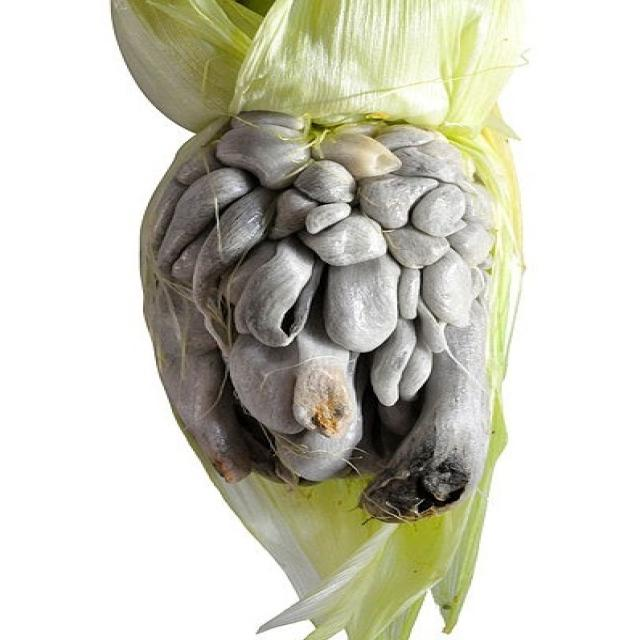Leaf_Scald: (94, 81, 566, 546)
